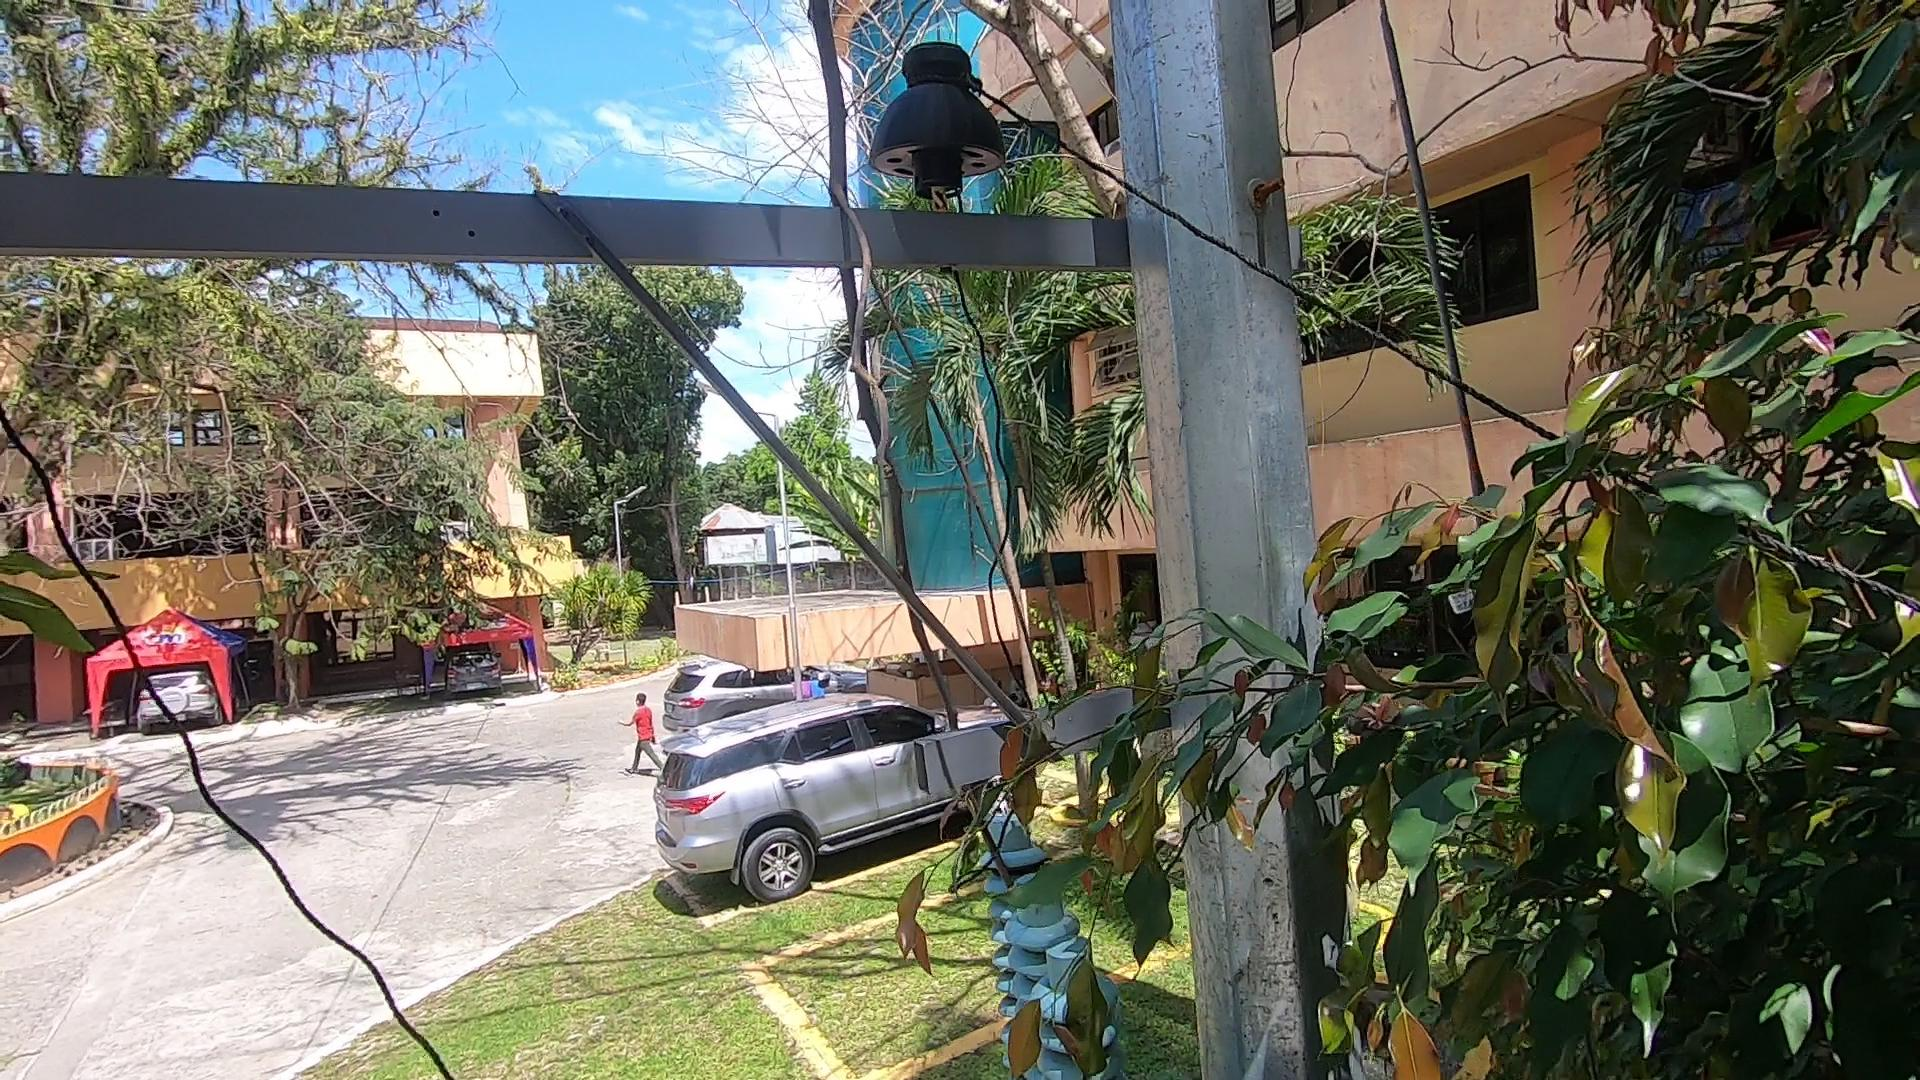branch with leaves: (860, 653, 1265, 1080)
tree branch: (767, 7, 1051, 910)
